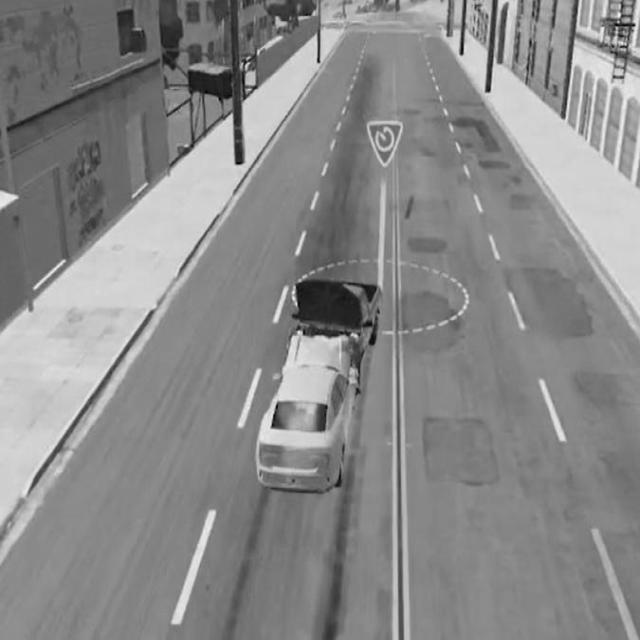accident: (254, 270, 385, 502)
